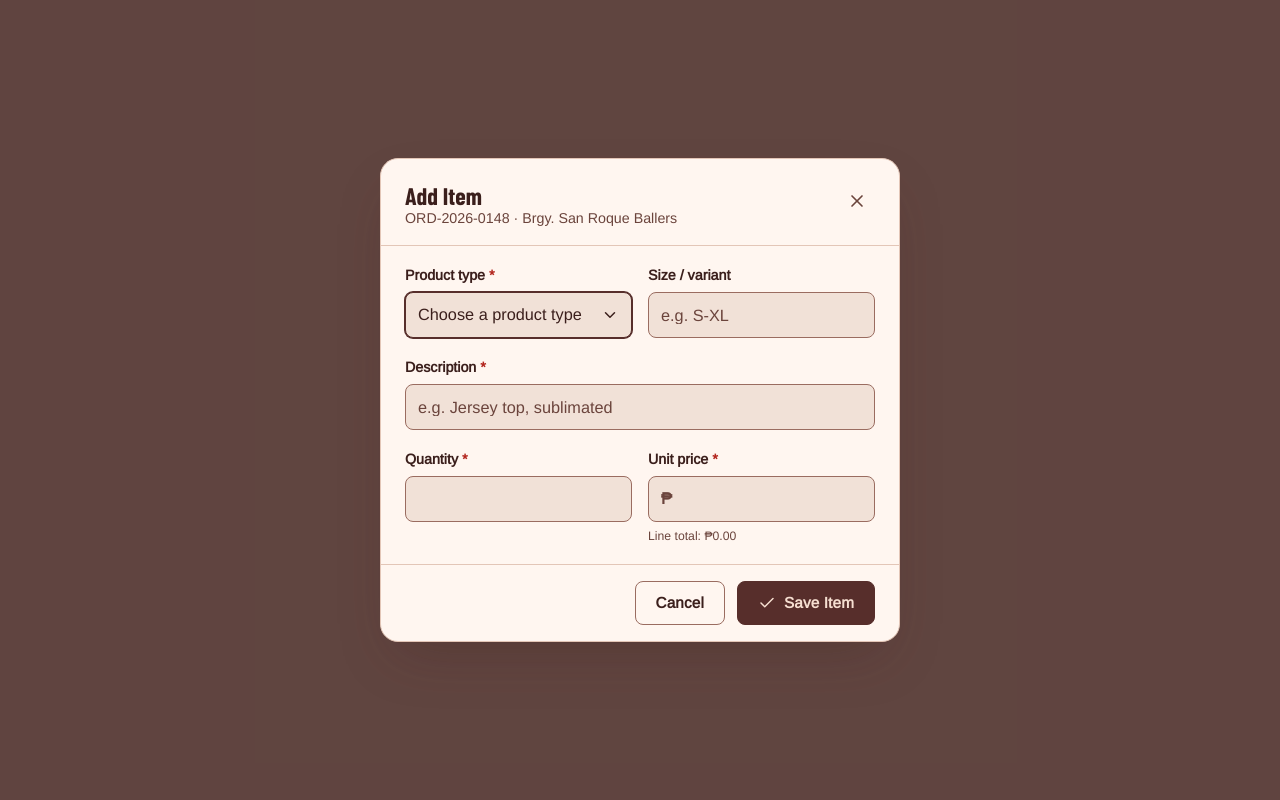
Test: add mode saving (ORD-07 idempotency, ORD-08) › toasts the customer credit when the answer shows one
Select "Basketball Jersey" in the dropdown labelled "Product type *" at (518, 315), box [406, 293, 631, 337]
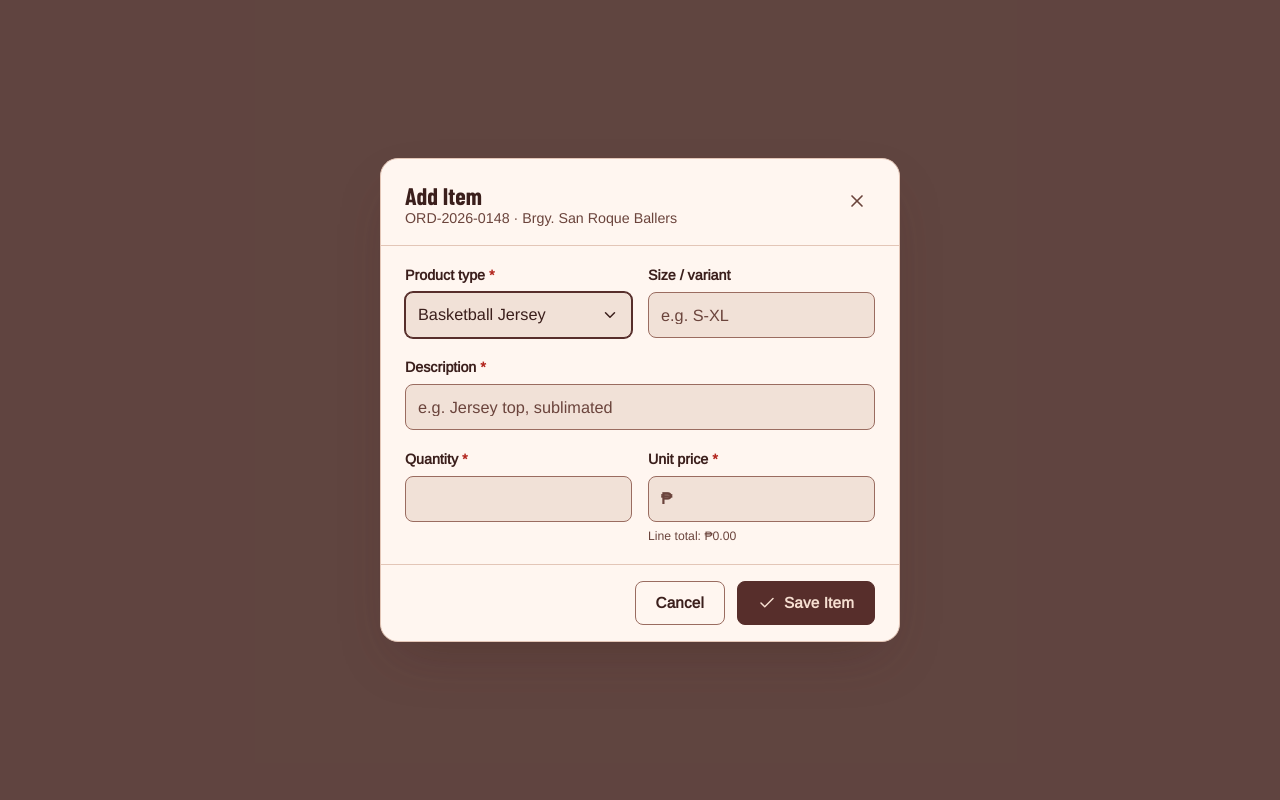
Type "S-XL" into the field labelled "Size / variant".
click(762, 315); type("S-XL")  # box [649, 293, 874, 337]
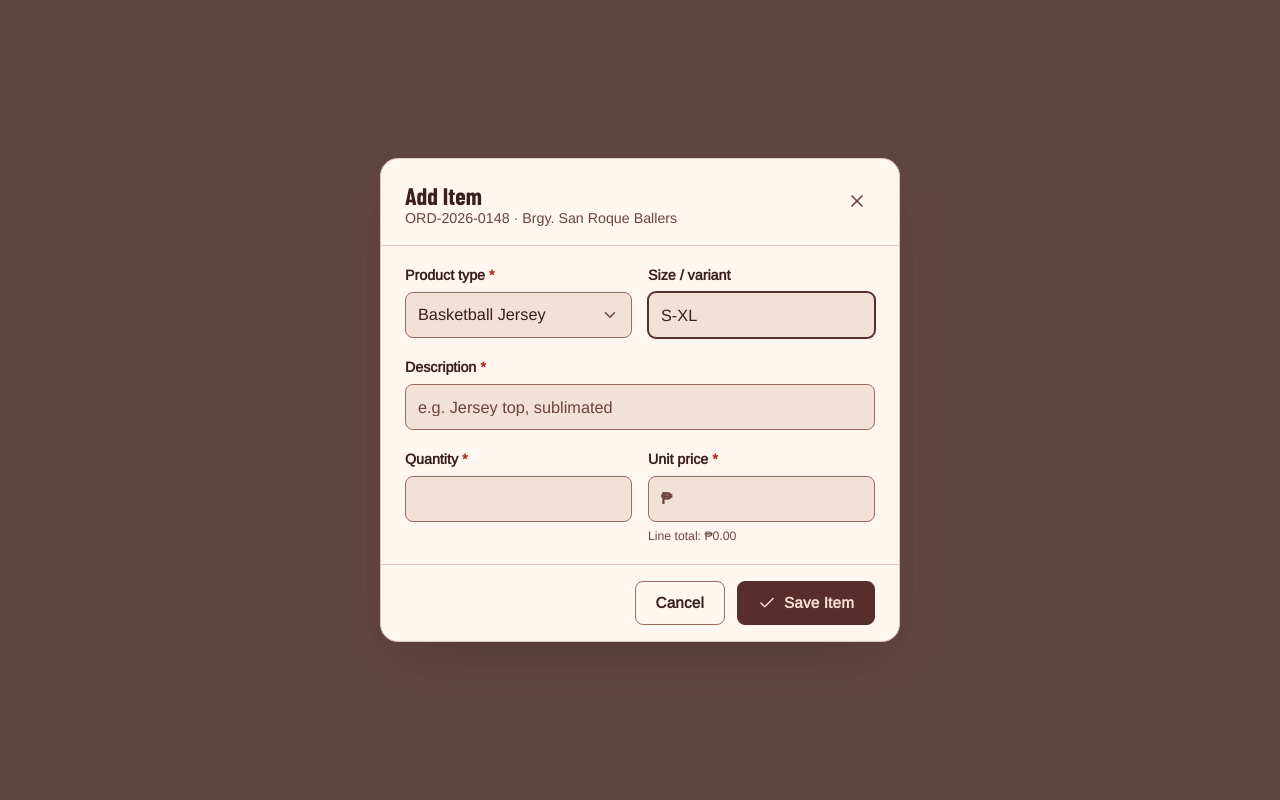
Type "Warm-up jacket" into the field labelled "Description *".
click(640, 407); type("Warm-up jacket")  # box [406, 385, 874, 429]
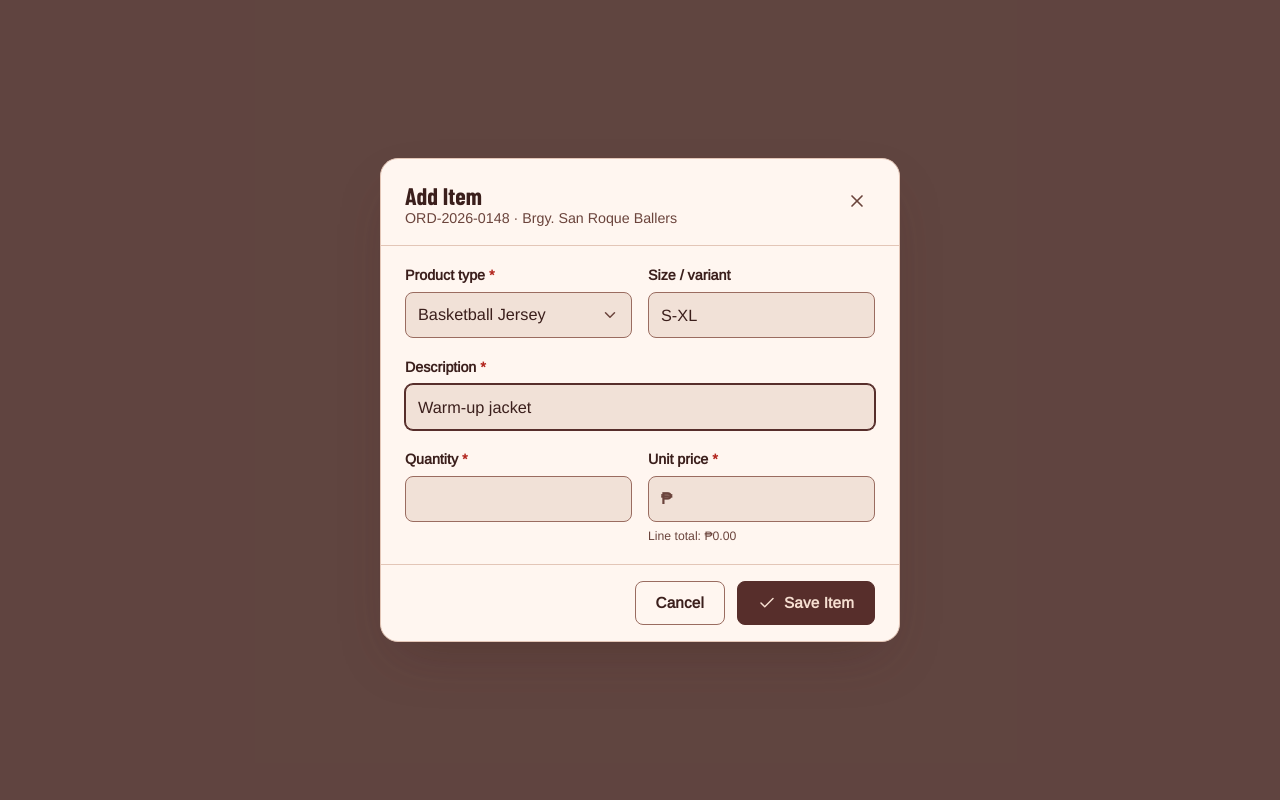
Type "12" into the field labelled "Quantity *".
click(518, 499); type("12")  # box [406, 477, 631, 521]
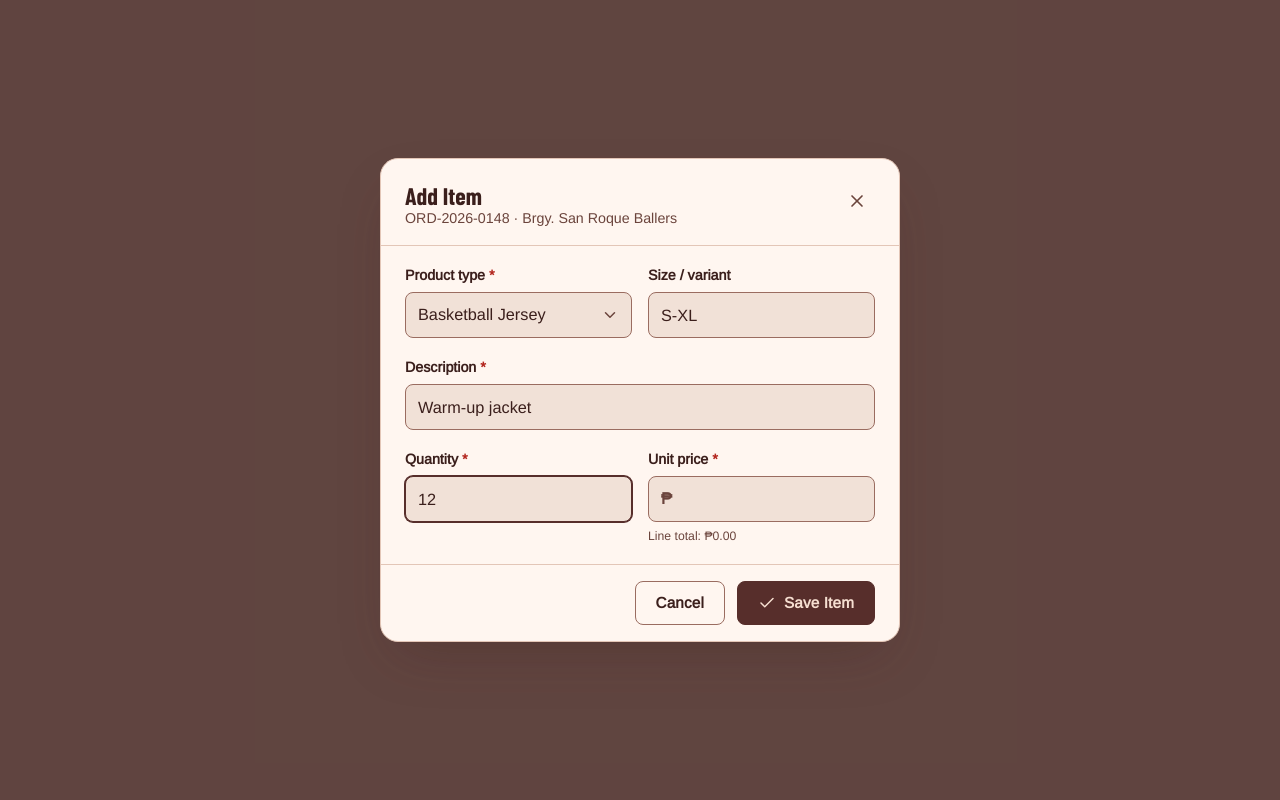
Type "780" into the field labelled "Unit price *".
click(773, 499); type("780")  # box [672, 477, 874, 521]
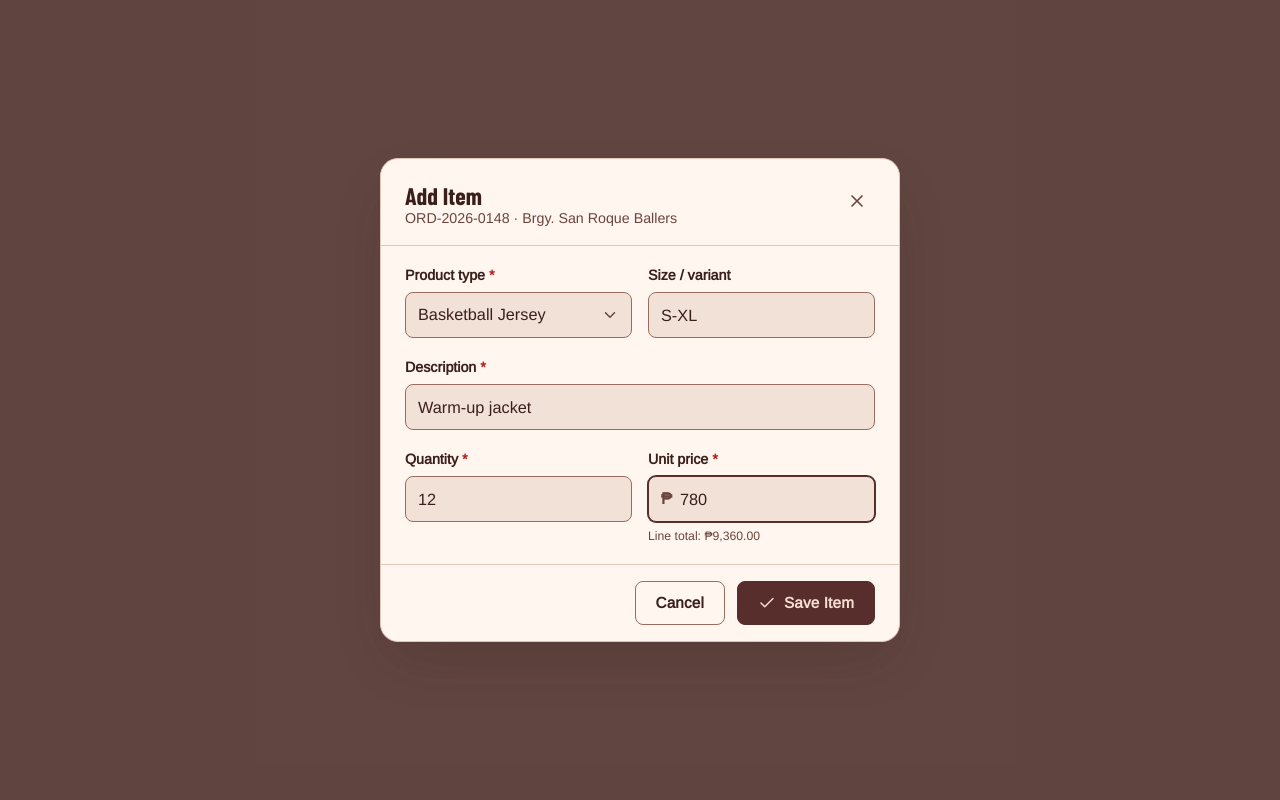
Click the button "Save Item".
click(806, 603)  # box [737, 581, 875, 625]
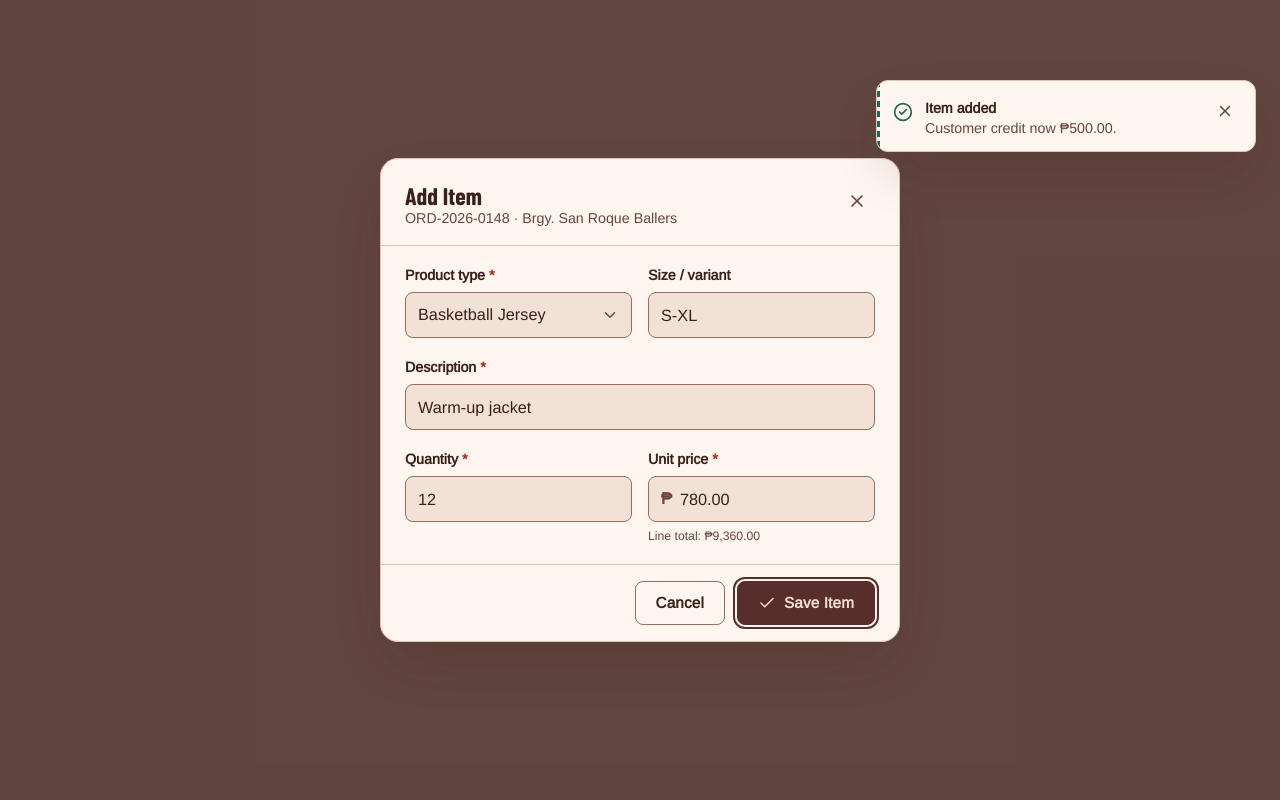
Result: the text "Customer credit now ₱500.00." is shown at [925, 121, 1117, 136]
